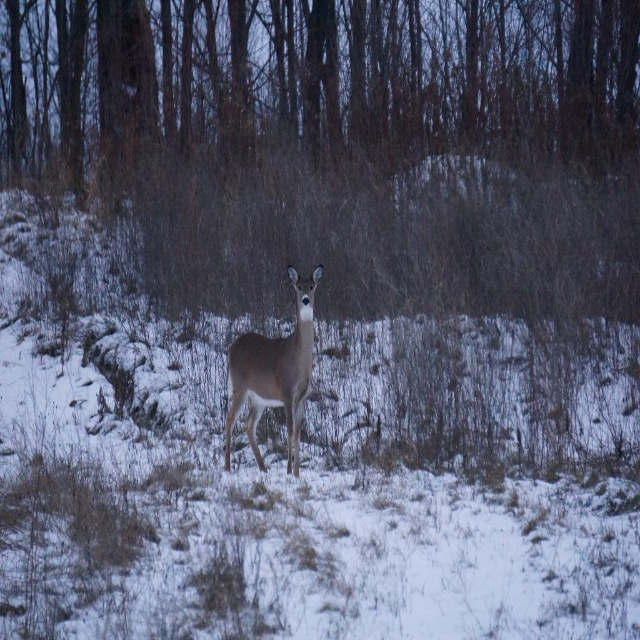Deer: (222, 264, 322, 478)
